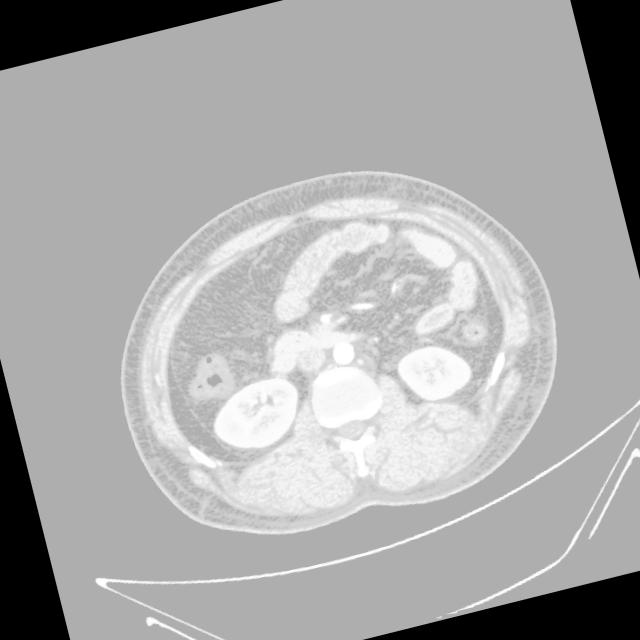NORMAL: (66, 120, 595, 575)
